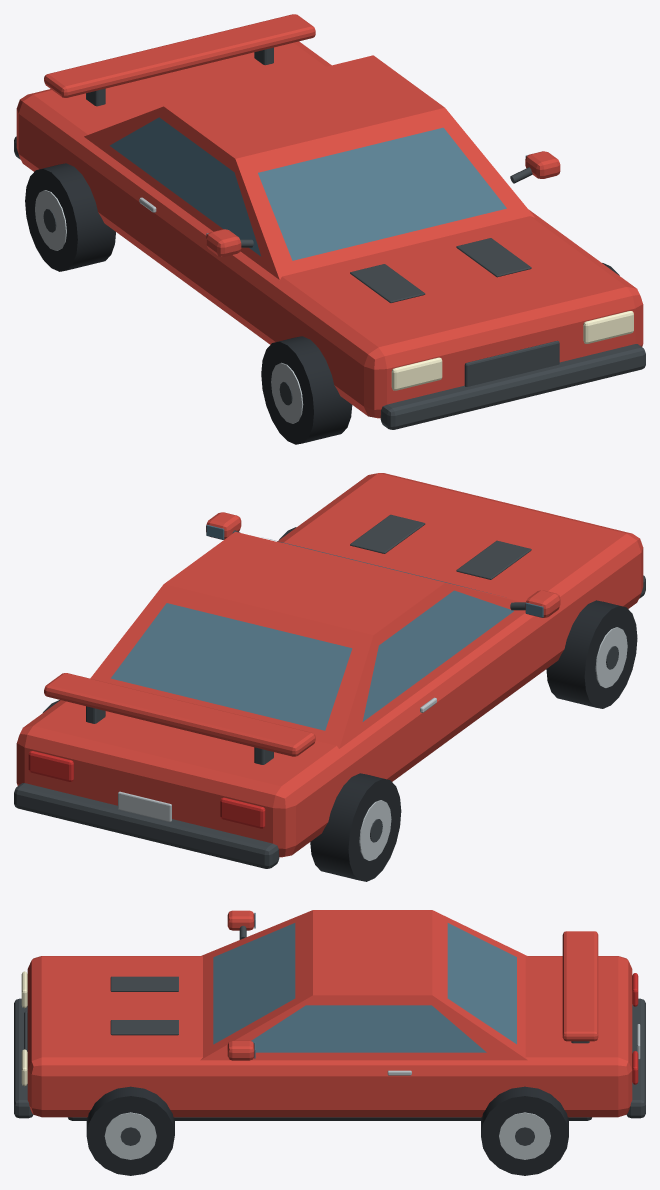
File: car_sports_coupe.glb
3 views of the same model, one above another, from view 1: azimuth 30°, elevation 25°; view 2: azimuth 150°, elevation 25°; view 3: azimuth 270°, elevation 25° (orthographic). The views are drawn at different scales.
Visible parts, largest first — view 1: Main body, Coupe cabin shell, Coupe windshield, Rear spoiler, Coupe left window 1, Front bumper, Left front wheel tire, Left rear wheel tire, Front grille, Bonnet vent.001, Bonnet vent, Left front wheel rim (+5 smaller); view 2: Main body, Coupe cabin shell, Coupe rear glass, Rear spoiler, Coupe left window 1, Rear bumper, Left front wheel tire, Left rear wheel tire, Bonnet vent, Bonnet vent.001, Left front wheel rim, Left rear wheel rim (+4 smaller); view 3: Main body, Coupe cabin shell, Coupe right window 1, Coupe windshield, Coupe rear glass, Right front wheel tire, Right rear wheel tire, Rear spoiler, Right front wheel rim, Right rear wheel rim, Rear bumper, Underbody (+5 smaller).
Part boxes in pixels (x1=…): Main body: x1=16, y1=41, x2=643, y2=418; Coupe cabin shell: x1=84, y1=55, x2=534, y2=279; Coupe windshield: x1=258, y1=127, x2=506, y2=260; Rear spoiler: x1=44, y1=14, x2=315, y2=97; Coupe left window 1: x1=109, y1=117, x2=261, y2=256; Front bumper: x1=380, y1=344, x2=645, y2=429; Left front wheel tire: x1=261, y1=336, x2=352, y2=444; Left rear wheel tire: x1=25, y1=163, x2=115, y2=271; Front grille: x1=464, y1=340, x2=559, y2=386; Bonnet vent.001: x1=456, y1=238, x2=531, y2=277; Bonnet vent: x1=350, y1=264, x2=425, y2=302; Left front wheel rim: x1=271, y1=362, x2=303, y2=423; Main body: x1=16, y1=473, x2=643, y2=857; Coupe cabin shell: x1=90, y1=532, x2=525, y2=748; Coupe rear glass: x1=111, y1=603, x2=352, y2=730; Rear spoiler: x1=44, y1=673, x2=315, y2=756; Coupe left window 1: x1=362, y1=590, x2=513, y2=721; Rear bumper: x1=14, y1=783, x2=279, y2=868; Left front wheel tire: x1=546, y1=600, x2=637, y2=708; Left rear wheel tire: x1=310, y1=773, x2=401, y2=881; Bonnet vent: x1=456, y1=540, x2=531, y2=579; Bonnet vent.001: x1=350, y1=514, x2=425, y2=553; Left front wheel rim: x1=595, y1=627, x2=627, y2=687; Left rear wheel rim: x1=359, y1=800, x2=391, y2=860; Main body: x1=27, y1=956, x2=632, y2=1117; Coupe cabin shell: x1=200, y1=910, x2=527, y2=1060; Coupe right window 1: x1=251, y1=1005, x2=486, y2=1052; Coupe windshield: x1=213, y1=923, x2=295, y2=1044; Coupe rear glass: x1=447, y1=923, x2=516, y2=1044; Right front wheel tire: x1=86, y1=1086, x2=174, y2=1175; Right rear wheel tire: x1=481, y1=1086, x2=568, y2=1175; Rear spoiler: x1=562, y1=931, x2=598, y2=1041; Right front wheel rim: x1=104, y1=1112, x2=156, y2=1159; Right rear wheel rim: x1=499, y1=1112, x2=550, y2=1159; Rear bumper: x1=626, y1=998, x2=645, y2=1118; Underbody: x1=68, y1=1117, x2=591, y2=1120.
Bounding box in the file's own units: 2.32 × 1.22 × 4.44.
